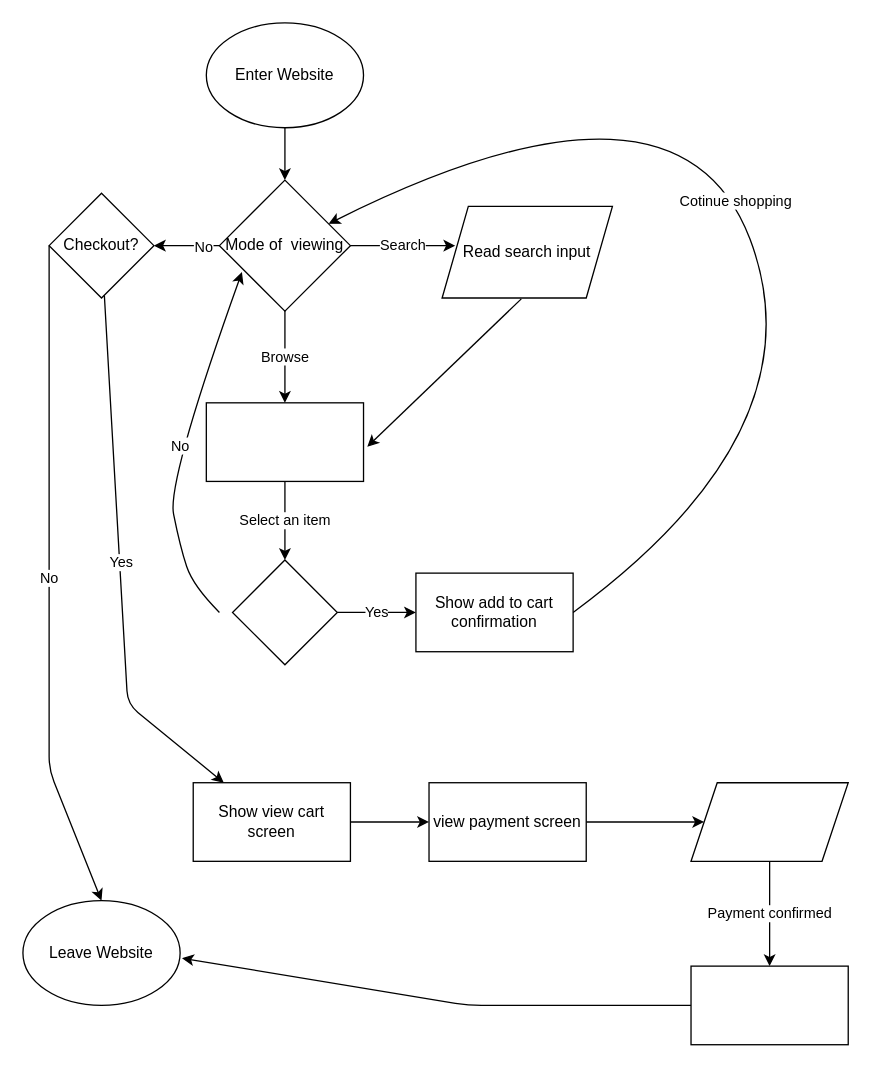
The diagram is 871 pixels wide and 1068 high, and some of its shapes have lost their labels. The shapes that lost their labels are listed below. From the top down, each one's centre as x and y in pixels, then its label:
the point at 284,441: Show list of items
the point at 284,612: Add to cart?
the point at 769,821: Read payment information
the point at 769,1005: Show payment confirmation and send confiirmation email
